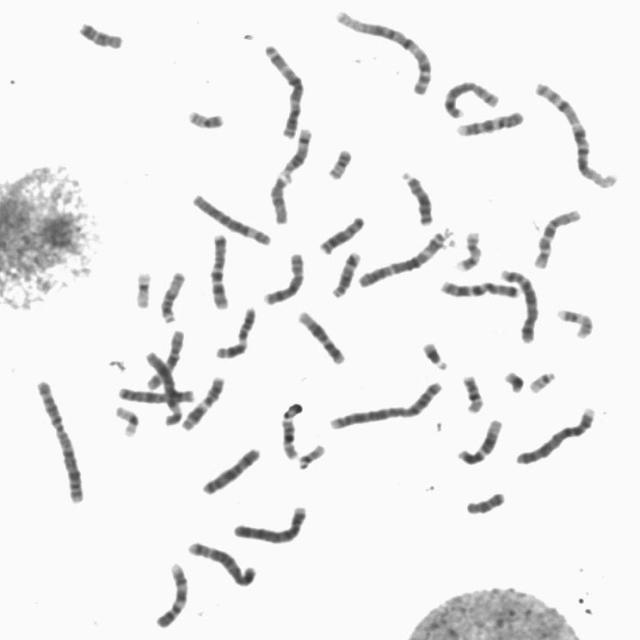A1: (530, 76, 622, 190), (329, 3, 437, 96)
A2: (31, 374, 88, 505), (324, 374, 446, 432)
A3: (354, 224, 452, 289), (260, 38, 307, 140)
B4: (512, 401, 599, 467), (228, 500, 310, 546)
B5: (183, 535, 260, 588), (496, 262, 542, 344)
C10: (529, 202, 585, 270), (142, 324, 187, 391)
C11: (177, 370, 227, 432), (211, 300, 260, 360)
C12: (294, 304, 348, 365), (453, 413, 506, 466)
C6: (188, 188, 275, 247), (139, 345, 186, 427)
C7: (436, 274, 523, 300), (206, 227, 232, 311)
C8: (259, 246, 308, 307), (439, 74, 502, 120)
C9: (150, 557, 192, 629), (452, 105, 528, 138)
D13: (316, 209, 368, 255), (398, 165, 436, 227)
D14: (276, 122, 315, 178), (328, 245, 364, 299)
D15: (156, 265, 188, 324), (266, 168, 295, 225)
E16: (458, 368, 488, 414), (277, 414, 301, 460)
E17: (553, 302, 597, 340), (453, 226, 485, 272)
E18: (74, 14, 126, 50), (461, 484, 509, 516)
F19: (109, 400, 142, 438), (130, 265, 155, 309)
F20: (324, 143, 356, 181), (182, 103, 227, 130)
G21: (417, 335, 452, 371), (500, 365, 528, 394)
G22: (293, 438, 328, 470), (525, 365, 559, 394)
X: (197, 442, 264, 496), (113, 381, 198, 404)
